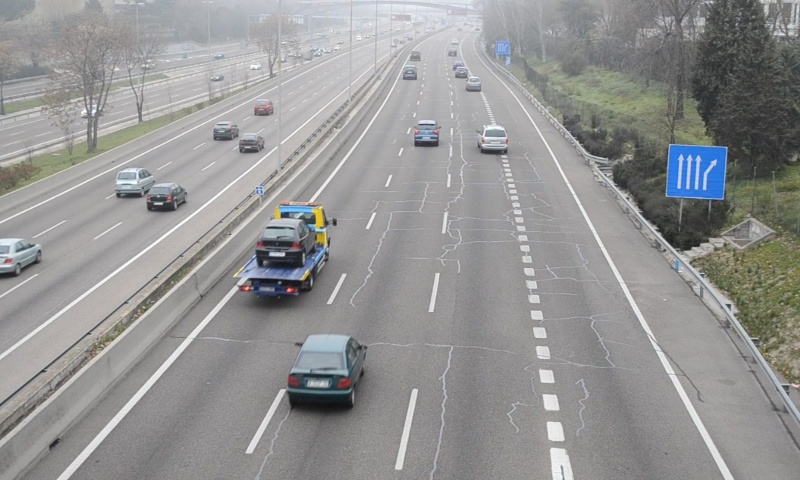car: (287, 334, 365, 398), (479, 124, 509, 154), (413, 120, 440, 145), (465, 76, 481, 93), (402, 66, 417, 82)
small-truck: (231, 202, 330, 296)
